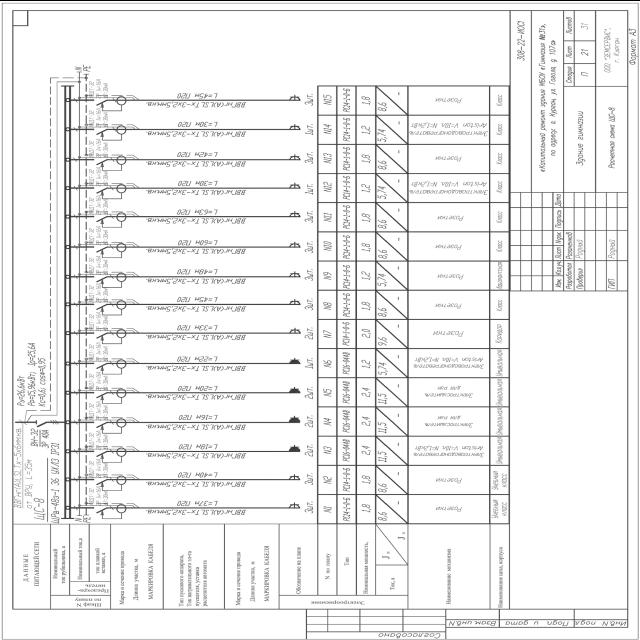-: (30, 442, 60, 522), (28, 426, 51, 448), (88, 282, 110, 302), (88, 312, 110, 332), (88, 106, 109, 126), (88, 341, 109, 361), (88, 370, 109, 390), (88, 224, 109, 244), (88, 78, 109, 98), (88, 254, 109, 274), (88, 194, 109, 214), (88, 137, 109, 157), (88, 484, 109, 504), (88, 457, 109, 477), (88, 400, 109, 420), (88, 166, 109, 186), (88, 428, 109, 448)
QFD: (93, 93, 127, 111), (93, 123, 127, 141), (92, 153, 126, 171), (92, 182, 126, 200), (92, 210, 126, 228), (92, 240, 126, 258), (93, 270, 127, 288), (94, 297, 128, 315), (92, 326, 126, 344), (93, 357, 127, 375), (92, 386, 126, 404), (93, 416, 127, 434), (93, 446, 127, 464), (92, 502, 126, 520), (92, 472, 125, 490)
QS: (34, 418, 48, 426)
